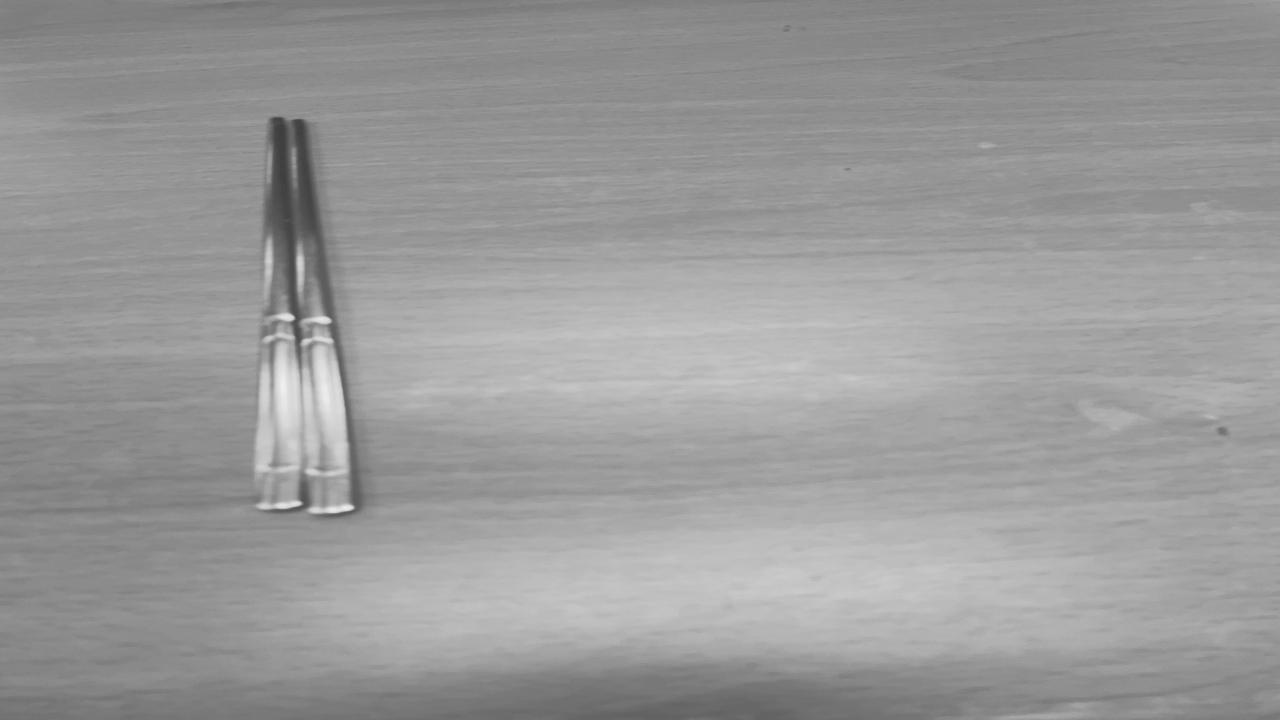chopstick: (254, 117, 360, 513)
